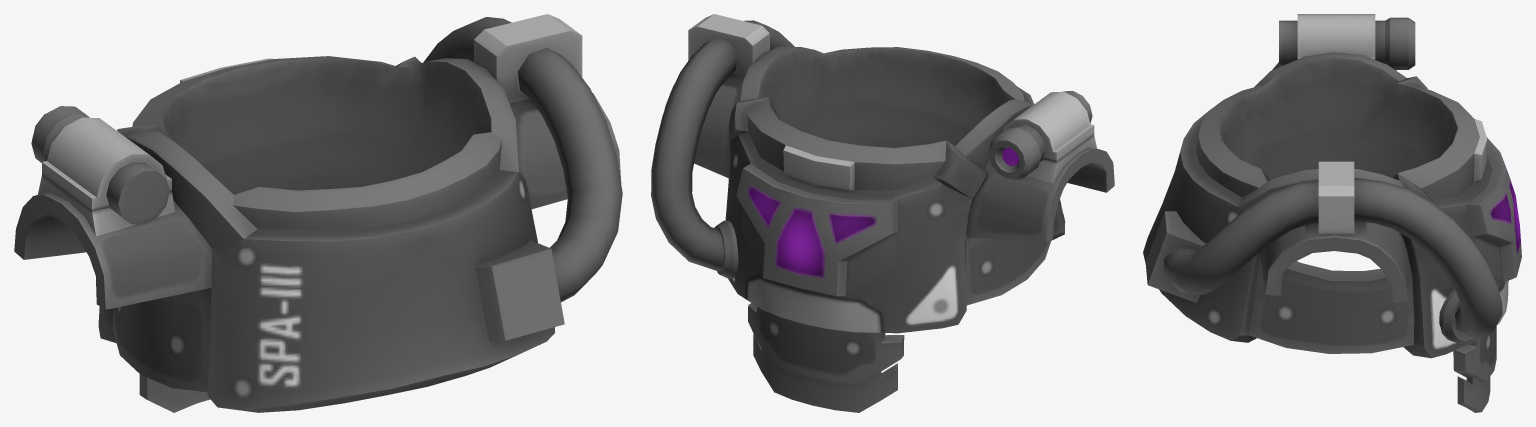
Rendered from IG_Armor_Storm_Lv5.fbx.
3 views of the same model, side by side, from view 1: azimuth 30°, elevation 25°; view 2: azimuth 150°, elevation 25°; view 3: azimuth 270°, elevation 25° (orthographic). The views are drawn at different scales.
Visible parts, largest first — view 1: PFB_SpaceSuitIII_Armor; view 2: PFB_SpaceSuitIII_Armor; view 3: PFB_SpaceSuitIII_Armor.
Part boxes in pixels (x1=…): PFB_SpaceSuitIII_Armor: x1=14, y1=14, x2=622, y2=412; PFB_SpaceSuitIII_Armor: x1=651, y1=14, x2=1114, y2=412; PFB_SpaceSuitIII_Armor: x1=1143, y1=14, x2=1521, y2=412.
Size of the model in its own units: 0.8335 by 0.5929 by 0.6834.
